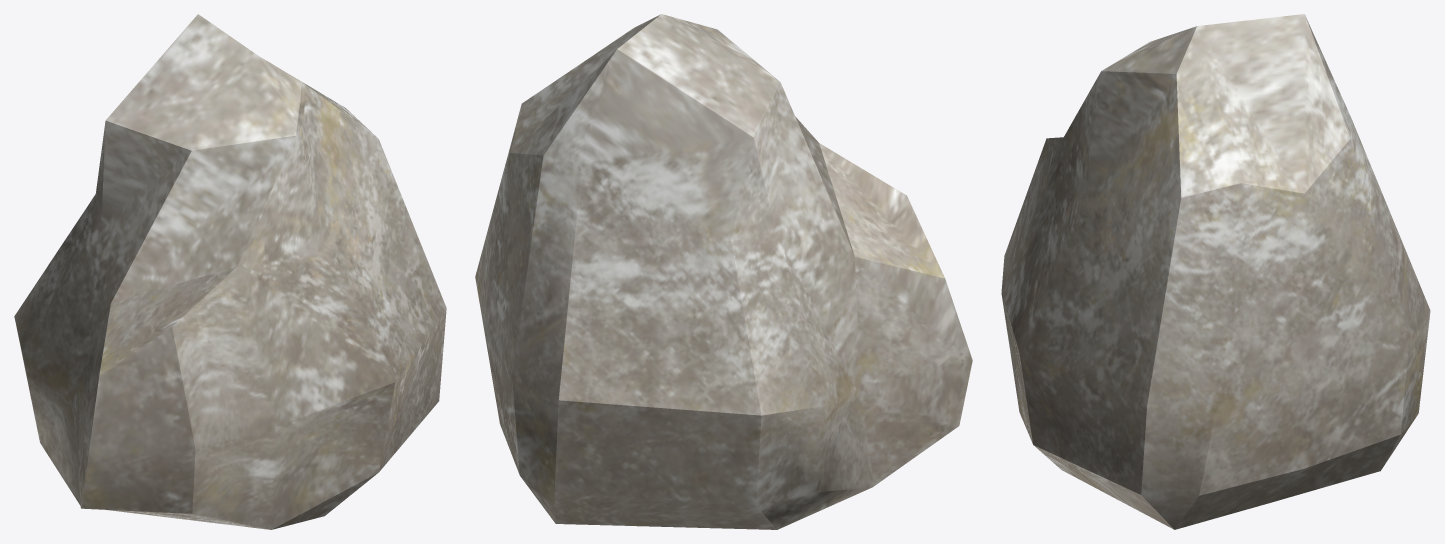
File: pathway_rock_16_dream.glb
3 renders of one model, left to right at view 1: azimuth 30°, elevation 25°; view 2: azimuth 150°, elevation 25°; view 3: azimuth 270°, elevation 25°, orthographic. The views are drawn at different scales.
Parts seen in each view (by area): view 1: pathway_rock_16; view 2: pathway_rock_16; view 3: pathway_rock_16.
Part boxes in pixels (x1,y1,x2,y2): pathway_rock_16: [14, 14, 446, 529]; pathway_rock_16: [475, 14, 972, 529]; pathway_rock_16: [1001, 14, 1430, 529].
Bounding box in the file's own units: 1.75 × 1.8 × 1.55.
1 material, 1 textured.
